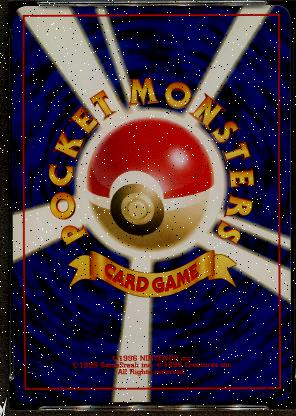Card: (9, 3, 291, 403)
Corner Wear: (281, 386, 290, 400)
Scratch: (40, 364, 49, 368), (24, 368, 29, 374)
